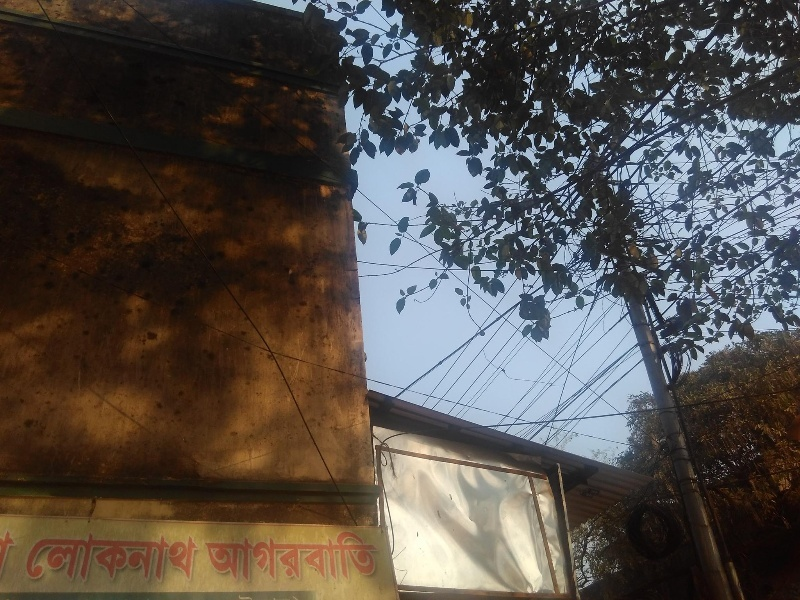text: (33, 531, 48, 584), (49, 531, 64, 584), (65, 531, 80, 584), (81, 531, 96, 584), (97, 531, 112, 584), (113, 531, 128, 584), (129, 531, 144, 584), (145, 531, 160, 584), (161, 531, 176, 584), (177, 531, 192, 584), (209, 530, 224, 582), (225, 530, 240, 582), (241, 530, 256, 582), (257, 530, 272, 582), (273, 530, 288, 582), (289, 530, 304, 582), (305, 530, 320, 582), (321, 530, 336, 582), (337, 530, 352, 582), (353, 530, 368, 582), (369, 530, 384, 582), (1, 529, 16, 577), (193, 531, 199, 584), (29, 531, 32, 584), (205, 530, 208, 582), (385, 530, 386, 582), (17, 529, 18, 577)
